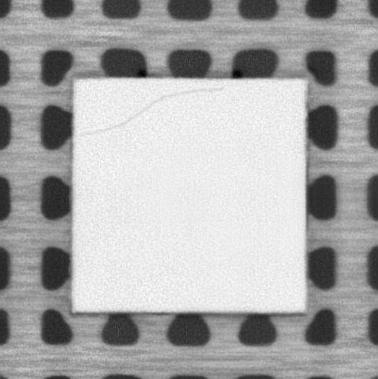DIE_CRACK: (80, 87, 224, 137)
